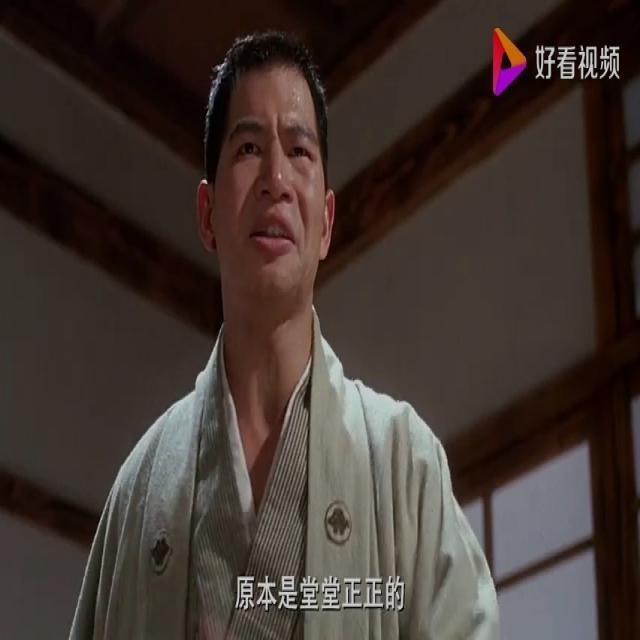non-fight: (66, 20, 503, 640)
